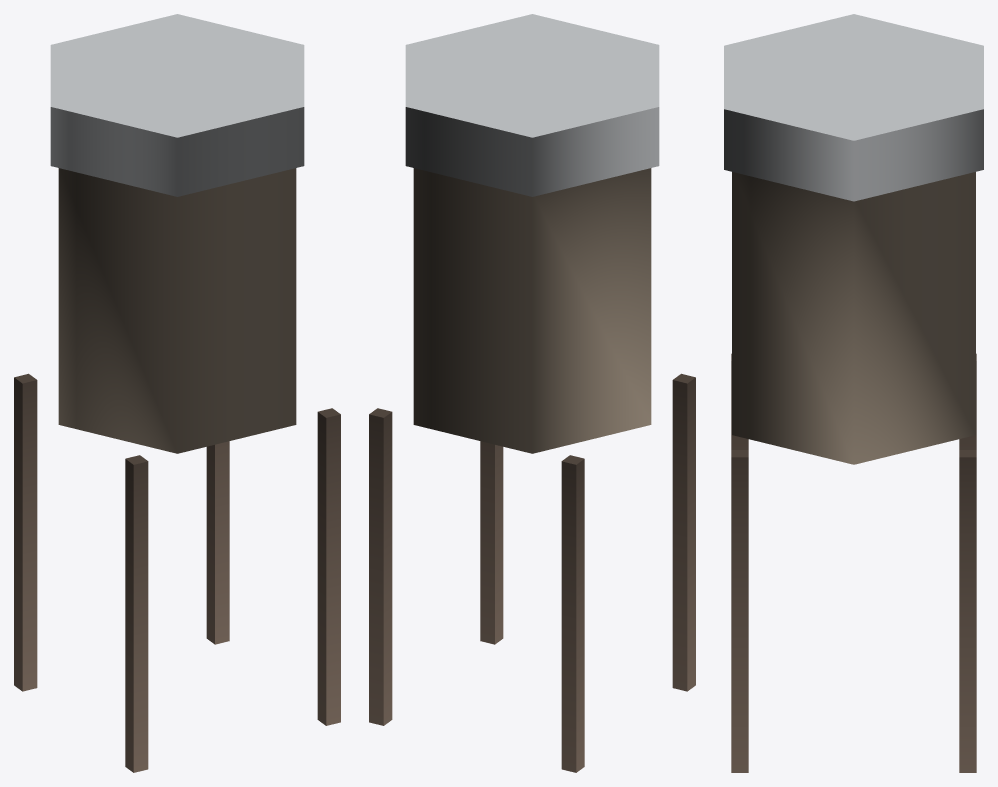
The model's file is water_tank.lod2.glb.
The picture shows the model from 3 angles, left to right: view 1: azimuth 30°, elevation 25°; view 2: azimuth 150°, elevation 25°; view 3: azimuth 270°, elevation 25°; orthographic projection. The views are drawn at different scales.
Visible parts, largest first — view 1: props_water_tank.lod2; view 2: props_water_tank.lod2; view 3: props_water_tank.lod2.
Part boxes in pixels (x1=…): props_water_tank.lod2: x1=14, y1=14, x2=340, y2=772; props_water_tank.lod2: x1=369, y1=14, x2=695, y2=772; props_water_tank.lod2: x1=724, y1=14, x2=983, y2=772.
Bounding box in the file's own units: 2.24 × 5.3 × 1.94.
